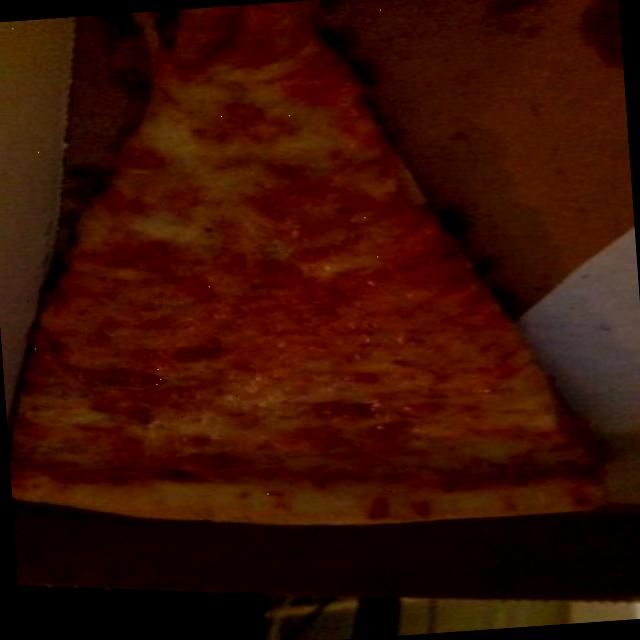pizza: (14, 0, 600, 523)
